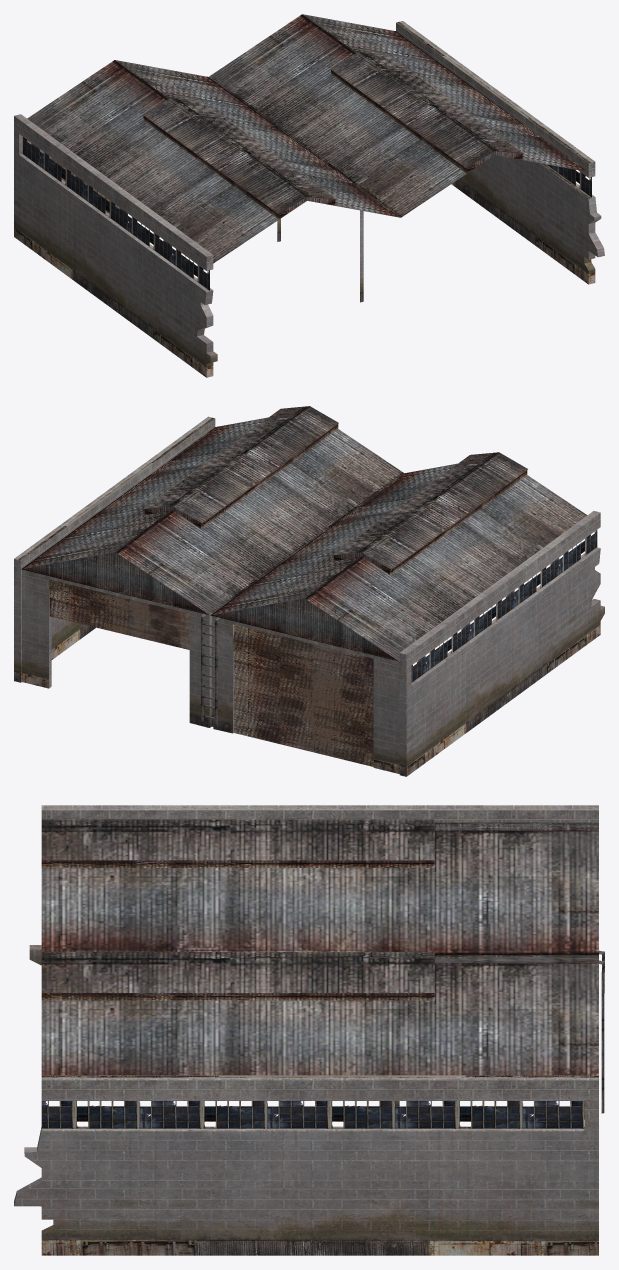
Rendered from MWHERHS1.glb.
3 views of the same model, one above another, from view 1: azimuth 30°, elevation 25°; view 2: azimuth 150°, elevation 25°; view 3: azimuth 270°, elevation 25° (orthographic). The views are drawn at different scales.
Visible parts, largest first — view 1: _MWHERHS1; view 2: _MWHERHS1; view 3: _MWHERHS1.
Boxes of the visible parts, left/top/right/bottom form: _MWHERHS1: left=14, top=14, right=604, bottom=377; _MWHERHS1: left=14, top=406, right=604, bottom=776; _MWHERHS1: left=14, top=805, right=604, bottom=1255.
Bounding box in the file's own units: 28 × 10.77 × 25.44.
Materials: 2 (2 with a texture image).
